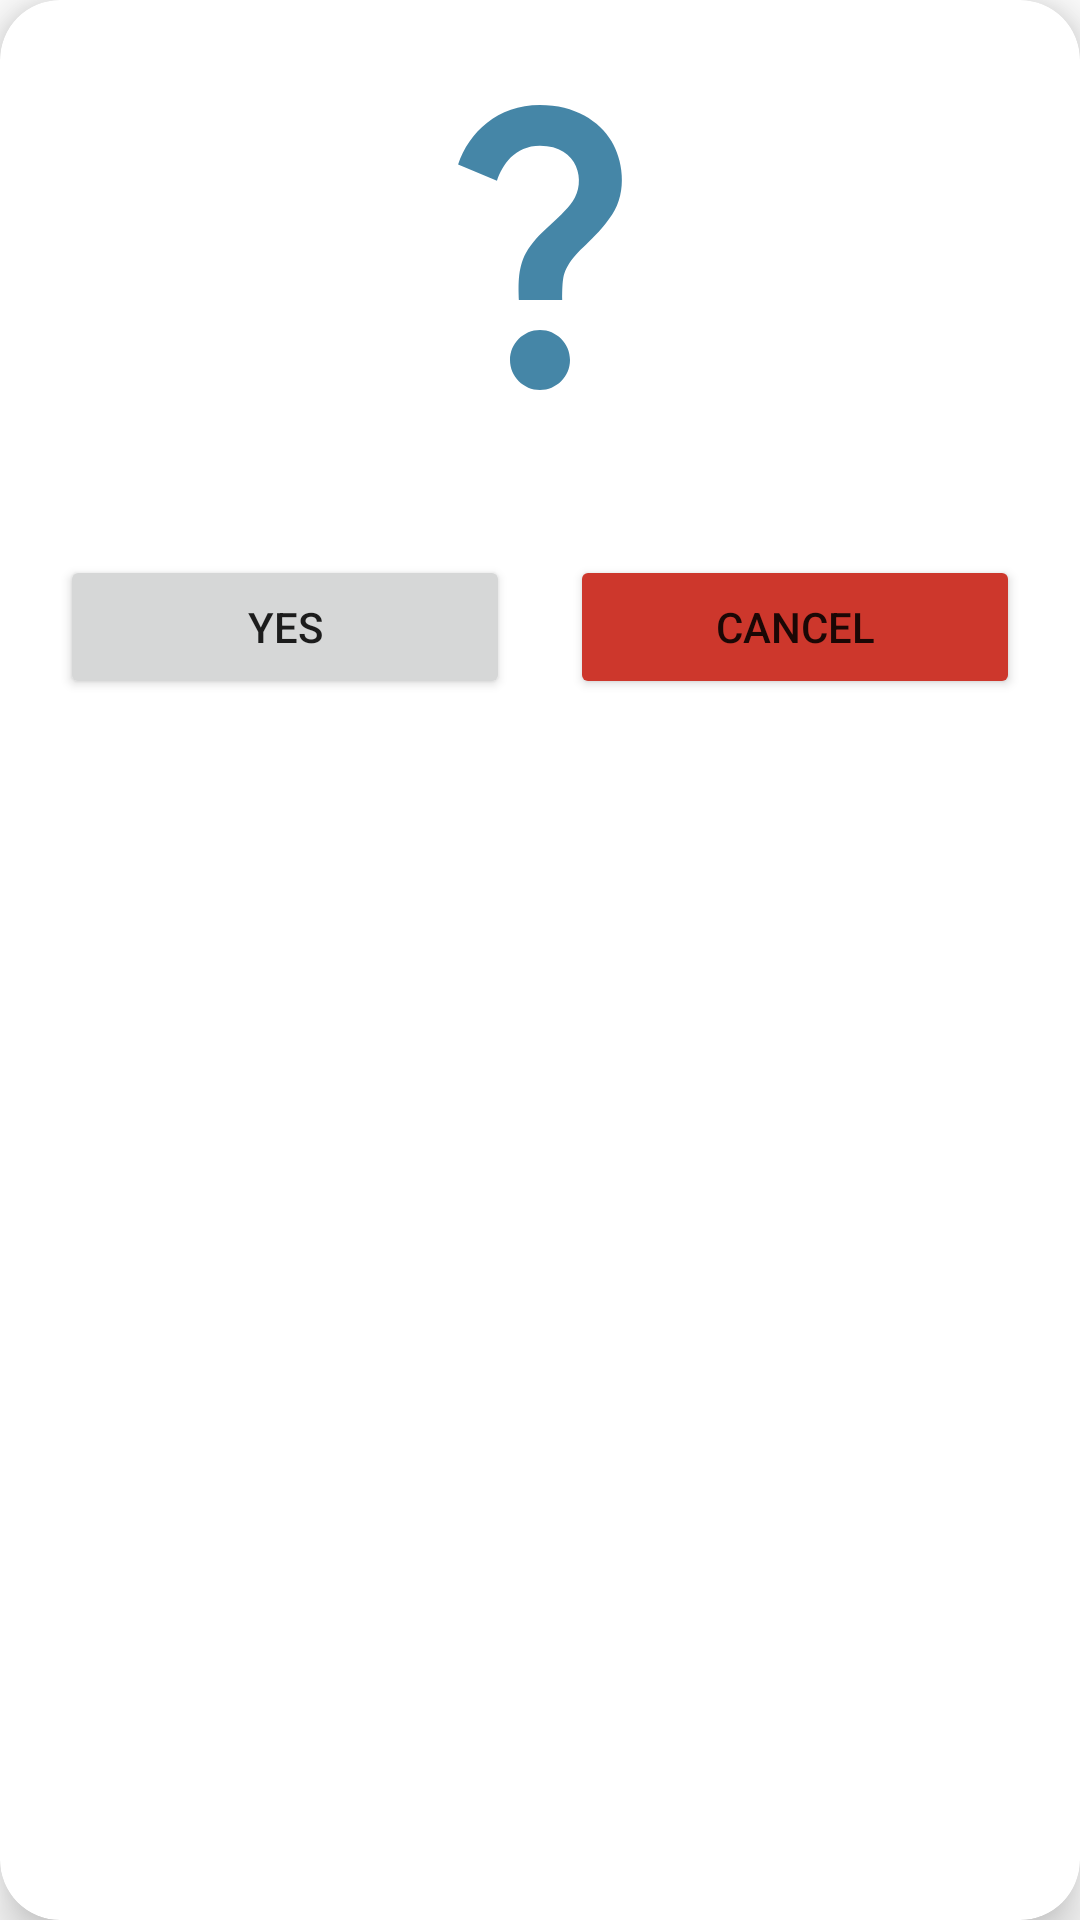

Locate icon controls on the screen. Image size 1080×1920, boxes as (x1,y1,x2,y2).
question: (458,105,622,390)
